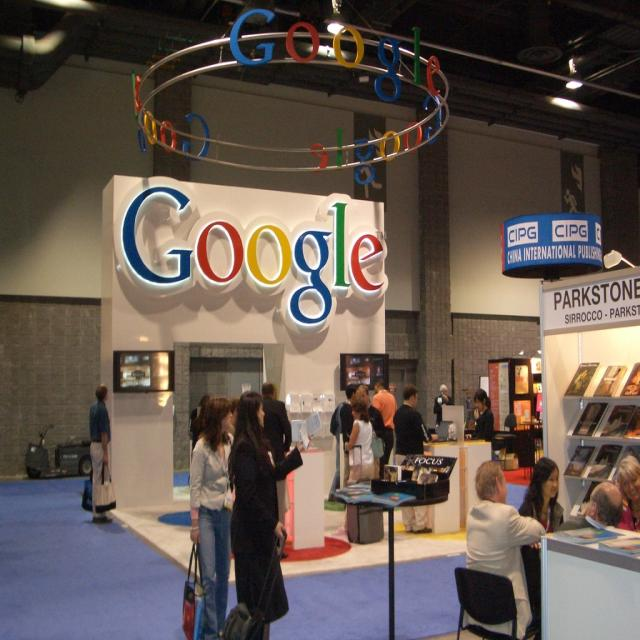google: (119, 178, 392, 339)
